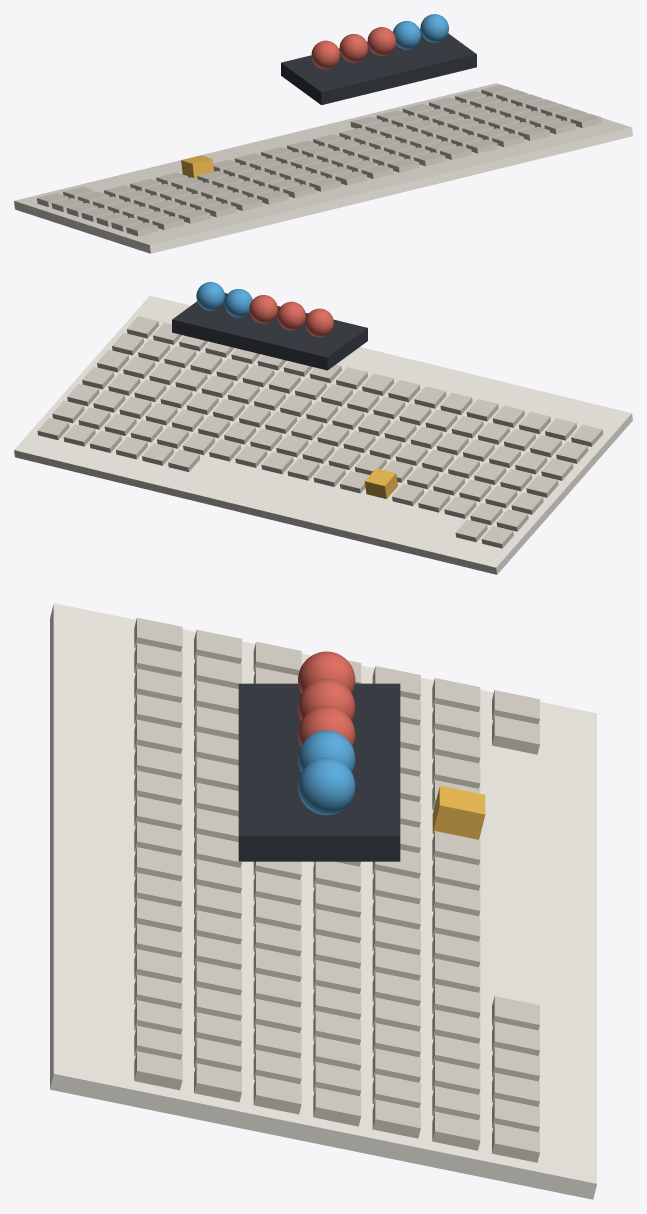
Rendered from chem-periodic-atomic-mass.glb.
3 views of the same model, one above another, from view 1: azimuth 30°, elevation 25°; view 2: azimuth 150°, elevation 25°; view 3: azimuth 270°, elevation 25° (orthographic). The views are drawn at different scales.
Parts seen in each view (by area): view 1: table-backing, mass-scale-platform, proton-mass-1, proton-mass-3, neutron-mass-2, proton-mass-2, neutron-mass-1, highlight-cell-6-2; view 2: table-backing, mass-scale-platform, highlight-cell-6-2, proton-mass-2, proton-mass-1, proton-mass-3, neutron-mass-2, neutron-mass-1, cell-7-6, cell-11-2, cell-17-2, cell-9-3 (+103 smaller); view 3: table-backing, mass-scale-platform, neutron-mass-2, highlight-cell-6-2, neutron-mass-1, proton-mass-1, proton-mass-2, cell-18-4, cell-18-5, cell-18-2, cell-18-7, cell-18-3 (+88 smaller).
Part boxes in pixels (<box>): table-backing: <box>14,83,632,253</box>; mass-scale-platform: <box>281,29,476,104</box>; proton-mass-1: <box>311,40,339,69</box>; proton-mass-3: <box>367,27,395,55</box>; neutron-mass-2: <box>420,14,448,42</box>; proton-mass-2: <box>339,34,367,62</box>; neutron-mass-1: <box>393,21,420,49</box>; highlight-cell-6-2: <box>181,155,213,178</box>; table-backing: <box>14,295,632,574</box>; mass-scale-platform: <box>172,293,367,370</box>; highlight-cell-6-2: <box>364,468,397,498</box>; proton-mass-2: <box>277,301,305,330</box>; proton-mass-1: <box>305,308,333,337</box>; proton-mass-3: <box>249,295,277,323</box>; neutron-mass-2: <box>196,282,224,310</box>; neutron-mass-1: <box>224,289,252,317</box>; cell-7-6: <box>399,403,431,425</box>; cell-11-2: <box>235,445,267,467</box>; cell-17-2: <box>78,407,110,429</box>; cell-9-3: <box>302,441,334,463</box>; table-backing: <box>50,603,596,1199</box>; mass-scale-platform: <box>238,683,400,861</box>; neutron-mass-2: <box>298,757,355,815</box>; highlight-cell-6-2: <box>432,785,485,839</box>; neutron-mass-1: <box>298,730,355,772</box>; proton-mass-1: <box>298,651,355,693</box>; proton-mass-2: <box>298,678,355,720</box>; cell-18-4: <box>313,1087,361,1126</box>; cell-18-5: <box>253,1075,301,1114</box>; cell-18-2: <box>432,1111,480,1150</box>; cell-18-7: <box>134,1051,182,1090</box>; cell-18-3: <box>372,1099,420,1138</box>.
Size of what is drawn, in the model's own units: 3.1 by 0.9626 by 1.52.
